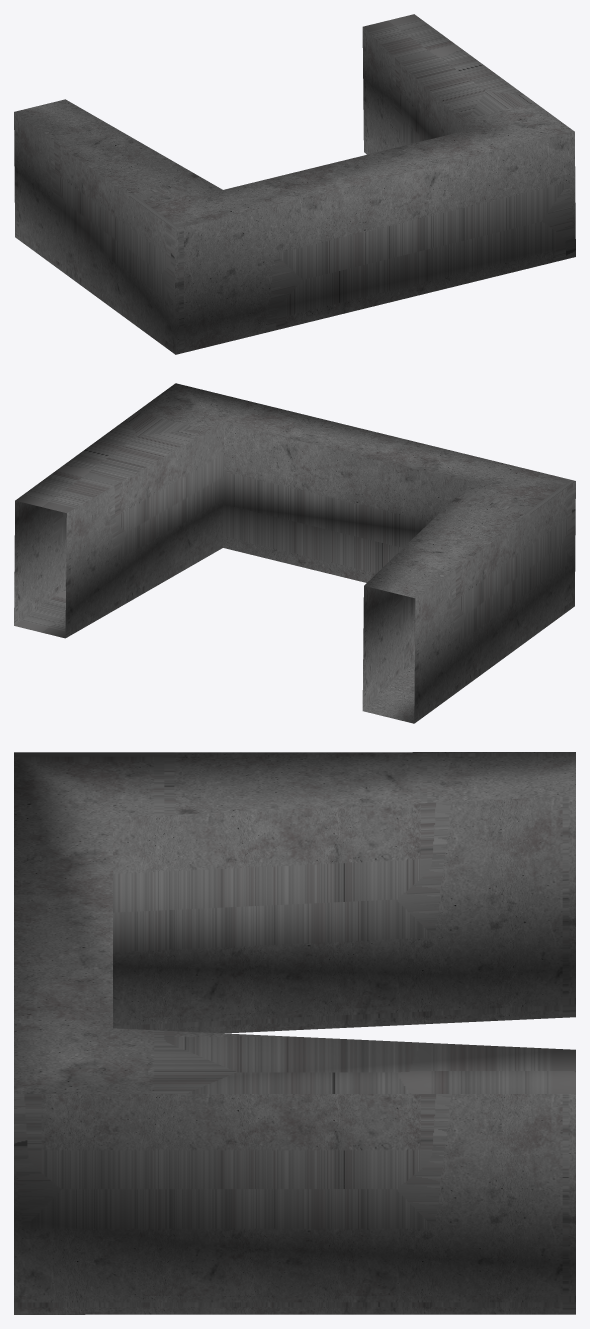
File: aws_Archway_01_collision.obj
3 views of the same model, one above another, from view 1: azimuth 30°, elevation 25°; view 2: azimuth 150°, elevation 25°; view 3: azimuth 270°, elevation 25° (orthographic). The views are drawn at different scales.
Size of the model in its own units: 722 by 216 by 500.
